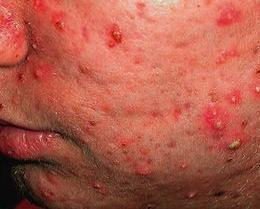papular: (218, 7, 246, 51), (102, 22, 132, 58), (32, 59, 56, 91), (130, 163, 155, 191), (88, 176, 107, 202)
purulent: (179, 184, 208, 207), (226, 132, 247, 161), (230, 88, 243, 111), (176, 159, 192, 175)
sebo-crystan-conglo: (210, 100, 226, 143)
